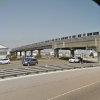Bridge: (14, 29, 100, 51)
